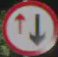Two way: (4, 2, 53, 51)
